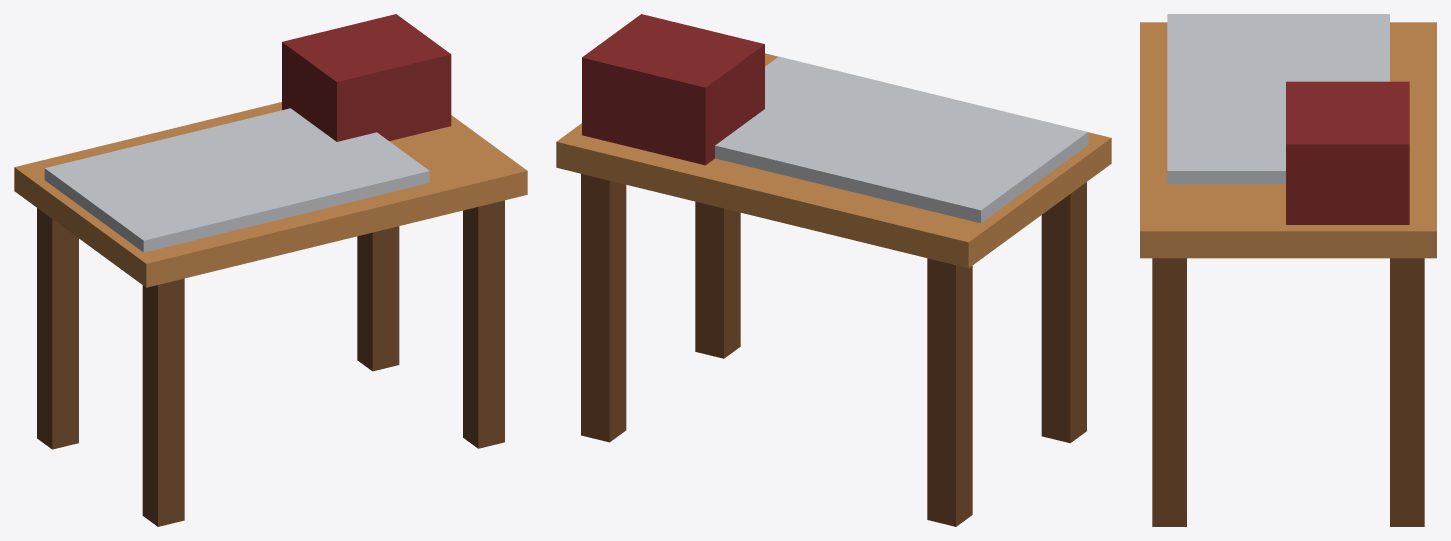
File: cash_table.glb
3 views of the same model, side by side, from view 1: azimuth 30°, elevation 25°; view 2: azimuth 150°, elevation 25°; view 3: azimuth 270°, elevation 25° (orthographic). The views are drawn at different scales.
Visible parts, largest first — view 1: cash_table; view 2: cash_table; view 3: cash_table.
Part boxes in pixels (box(x1,y1,x2,y2)): cash_table: box(14, 14, 527, 526); cash_table: box(556, 14, 1111, 526); cash_table: box(1140, 14, 1436, 526).
Bounding box in the file's own units: 1 × 0.86 × 0.6.
1 material, 1 textured.
